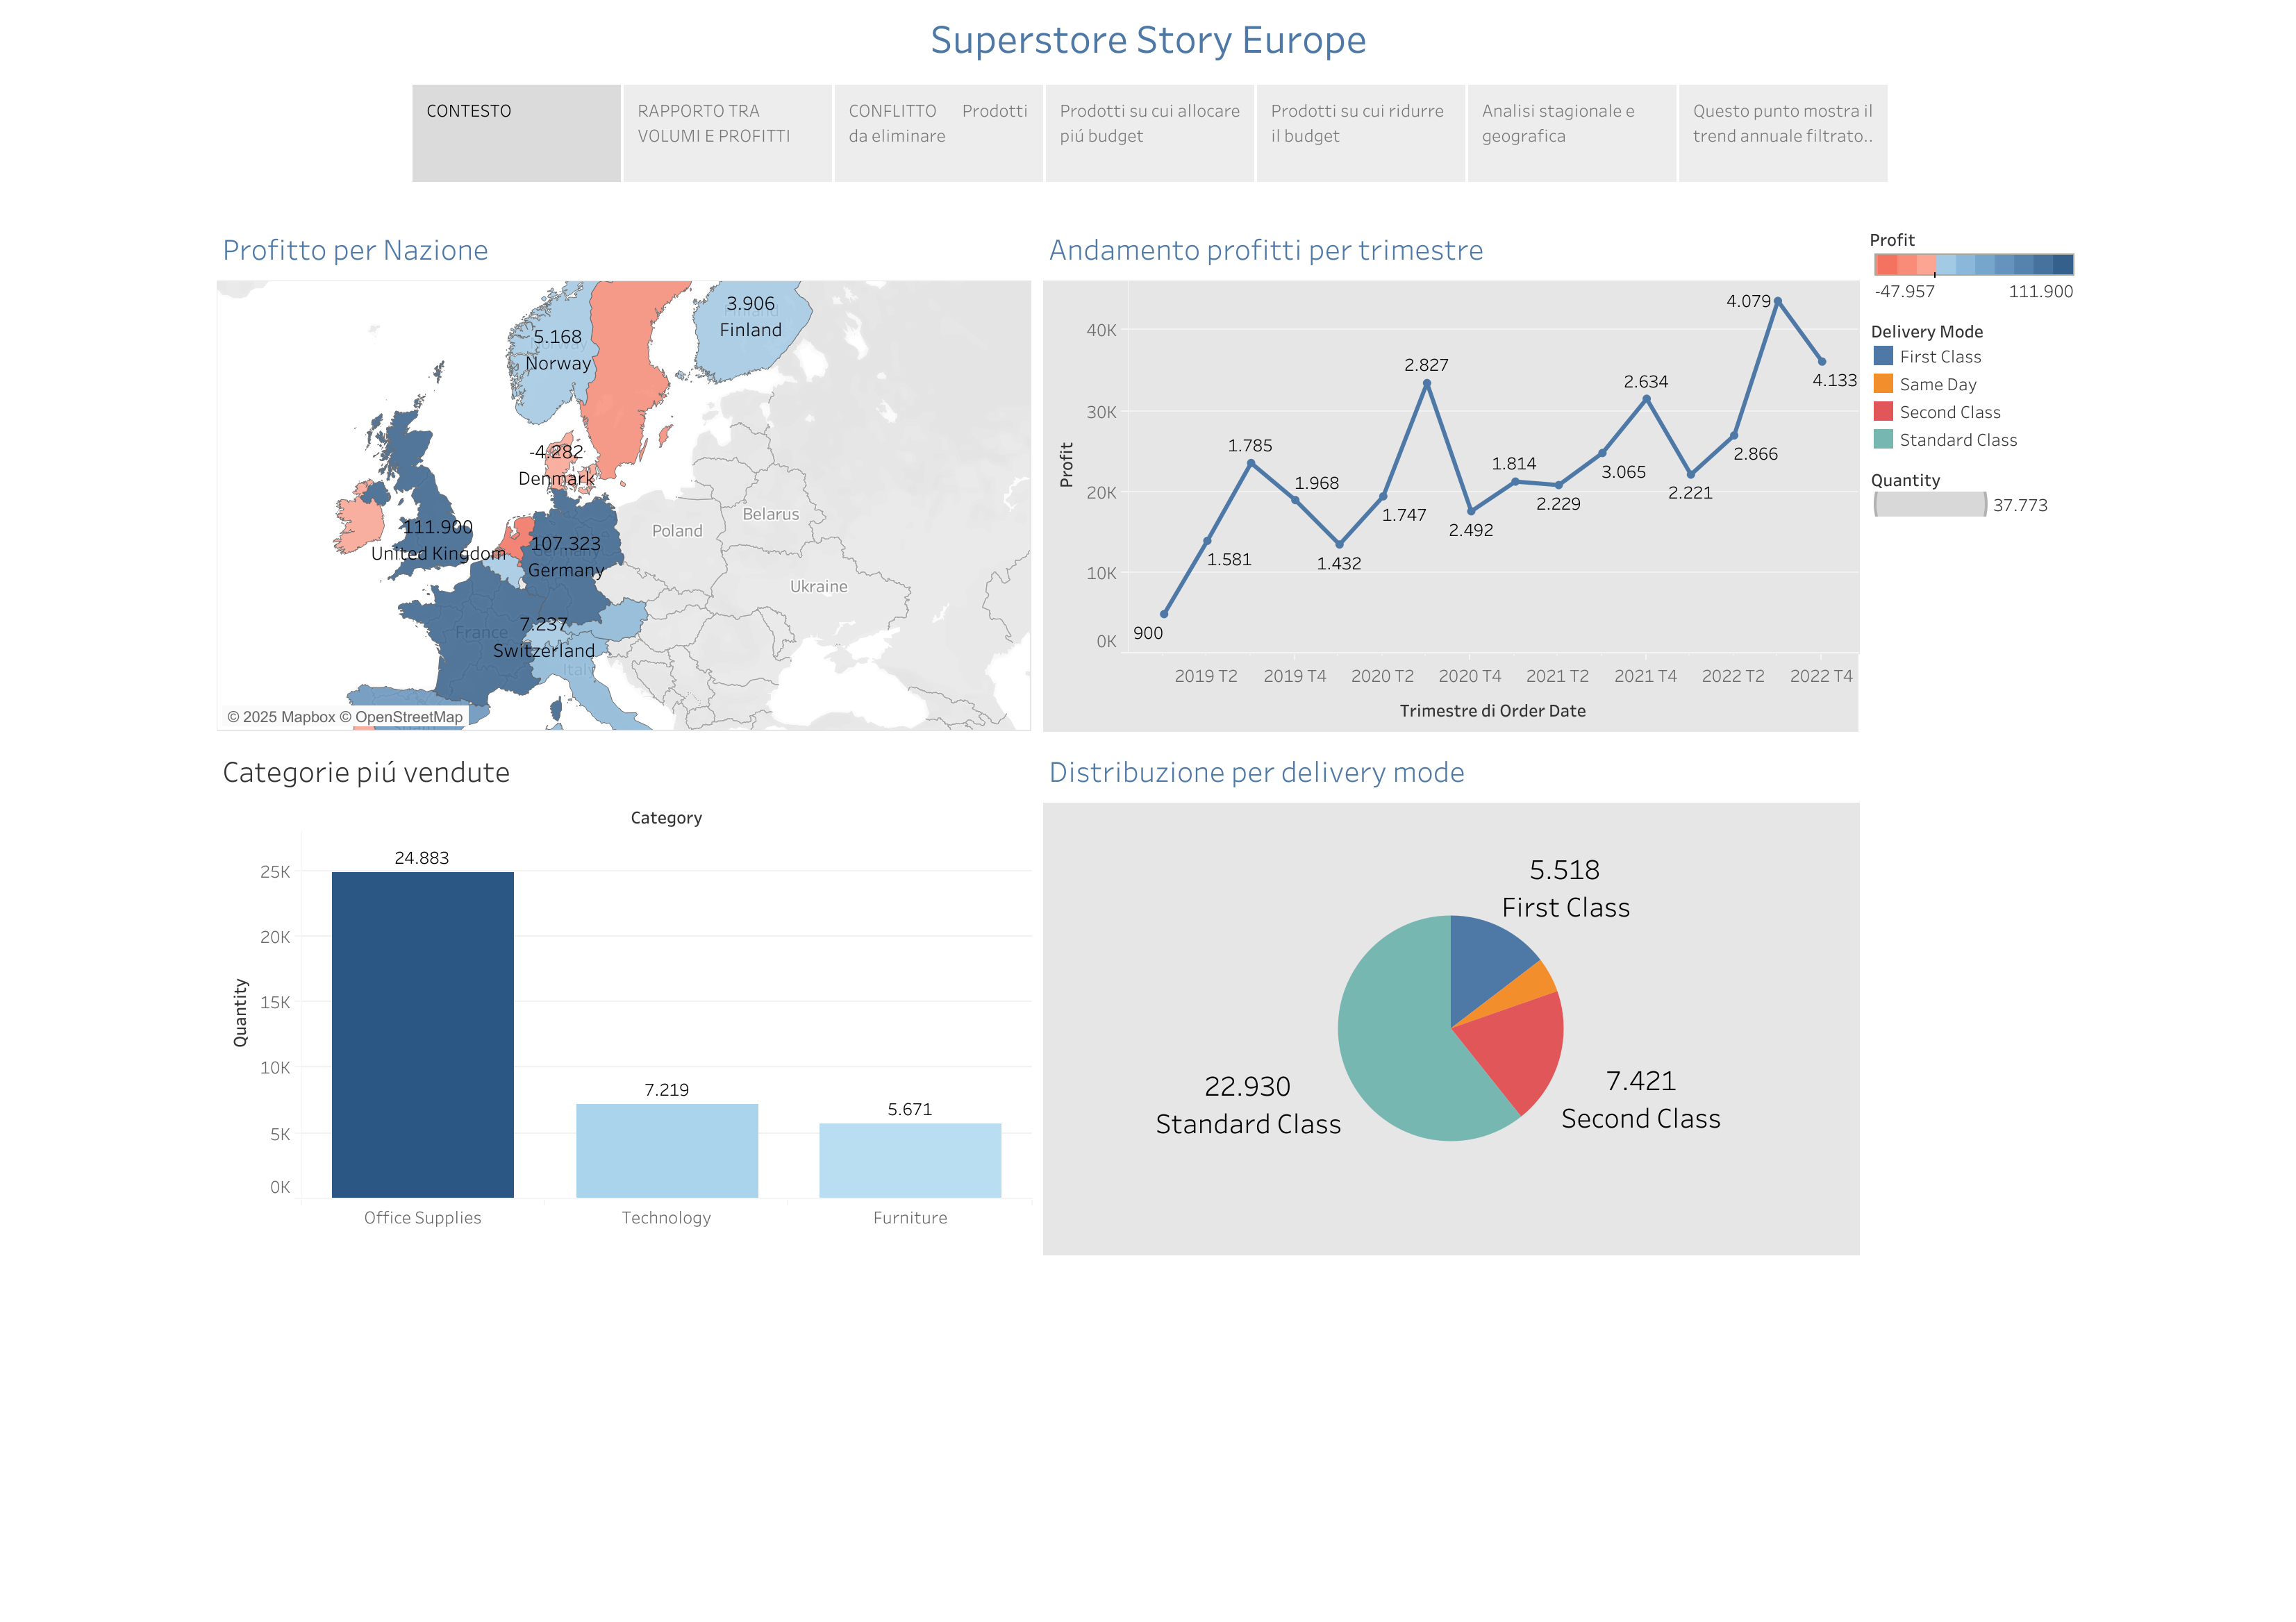

Layout of this report page (visuals, bound fields, positions):
{"tool":"tableau","page":{"name":"Analisi_dinamica","canvas":[1366,768],"ordinal":1},"visuals":[{"type":"worksheet","title":"Profit_naz","mark":"Automatic","box":[8,8,595,376]},{"type":"worksheet","title":"Vendite_trim","mark":"Automatic","rows":["Profit"],"cols":["Order Date"],"box":[603,8,595,376]},{"type":"legend","title":"Profit_naz","param":"[federated.0j83txi0lwatpw19zzol010ssosy].[sum:Profit:qk]","box":[1198,8,160,65]},{"type":"legend","title":"Distr_dev","param":"[federated.0j83txi0lwatpw19zzol010ssosy].[none:Delivery Mode:nk]","box":[1198,73,160,106]},{"type":"legend","title":"Distr_dev","param":"[federated.0j83txi0lwatpw19zzol010ssosy].[sum:Quantity:qk]","box":[1198,179,160,46]},{"type":"worksheet","title":"Prod_max","mark":"Automatic","rows":["Quantity"],"cols":["Category"],"box":[8,384,595,376]},{"type":"worksheet","title":"Distr_dev","mark":"Pie","box":[603,384,595,376]}]}

Visuals, with their boxes on the page's 1366x768 design canvas (x1, y1, x2, y2). These are canvas units, not pixel positions in the 2296x1622 screenshot, which may show the page scaled, cropped or inside an application window:
"Profit_naz" worksheet: bbox=[8, 8, 603, 384]
"Vendite_trim" worksheet: bbox=[603, 8, 1198, 384]
"Profit_naz" legend: bbox=[1198, 8, 1358, 73]
"Distr_dev" legend: bbox=[1198, 73, 1358, 179]
"Distr_dev" legend: bbox=[1198, 179, 1358, 225]
"Prod_max" worksheet: bbox=[8, 384, 603, 760]
"Distr_dev" worksheet (Pie marks): bbox=[603, 384, 1198, 760]
